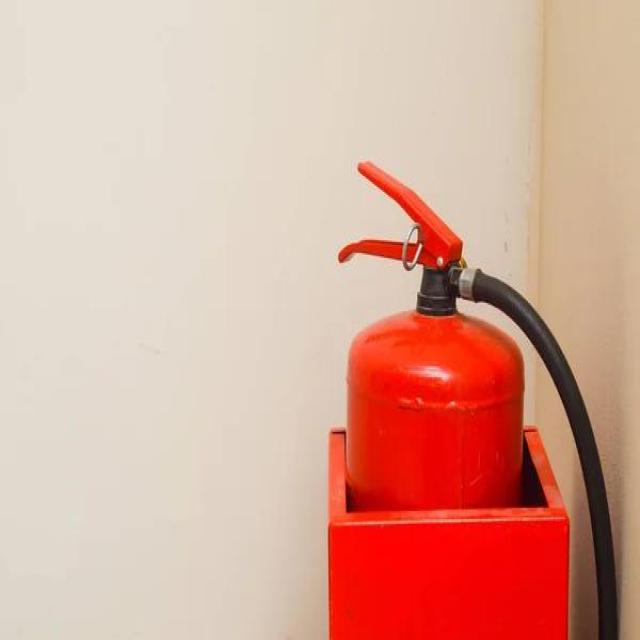fire_extinguisher: (335, 156, 621, 638)
